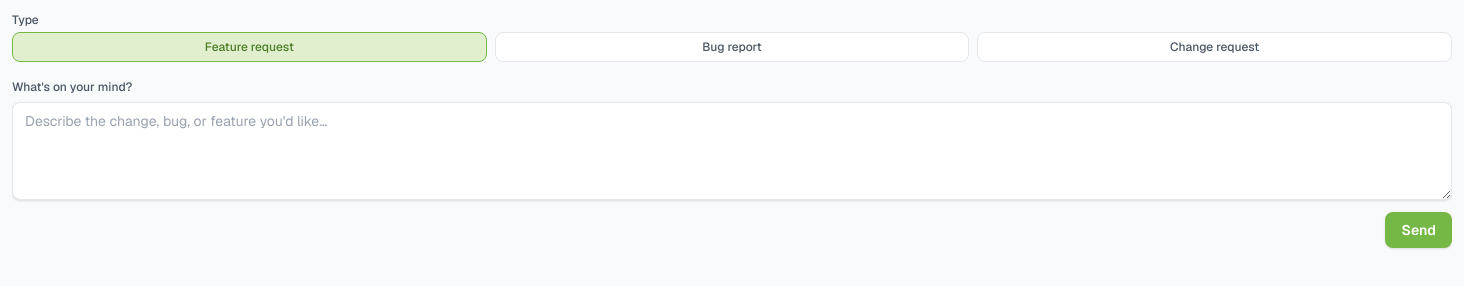
Test: FeatureRequestForm — the typed message survives a failed submit › keeps the message after a server validation bounce
Type "The calendar should show the weekday" into the text box labelled "What's on your mind?" at (732, 151), box [12,102,1452,200]
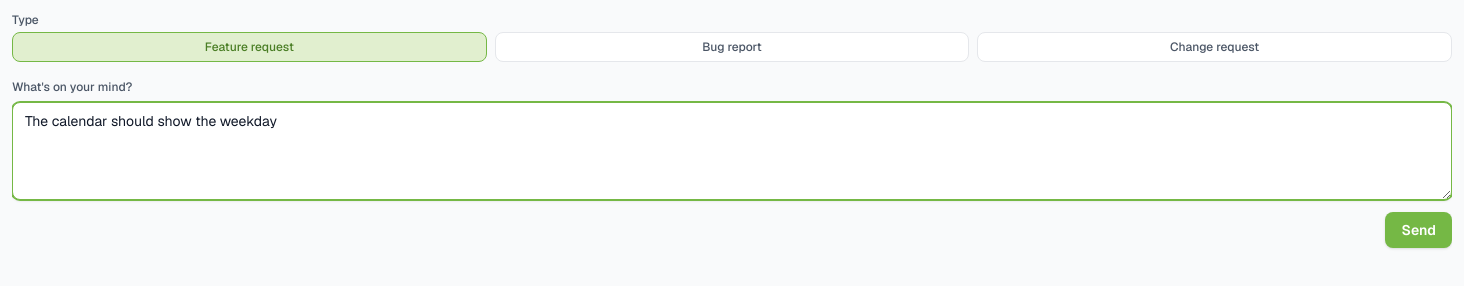
Click the button "Send" at (1419, 230), box [1386,212,1452,248]
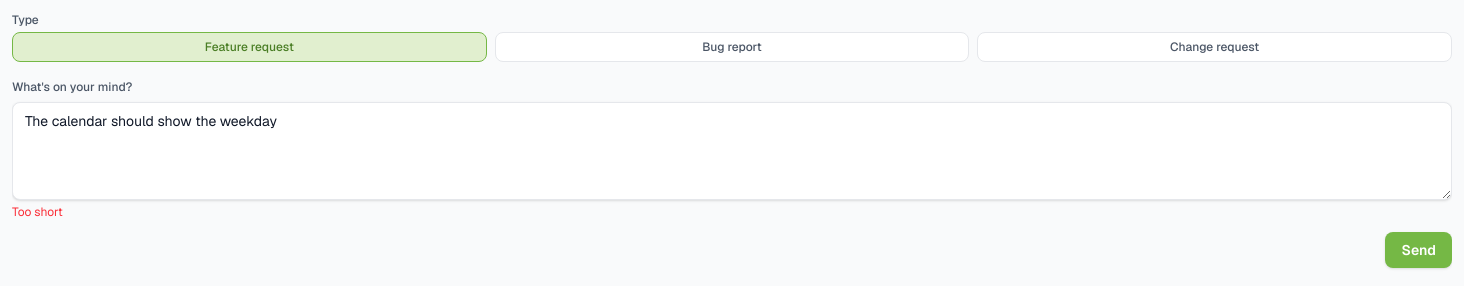
Check: the text "Too short" is shown, box [12,204,63,220]
